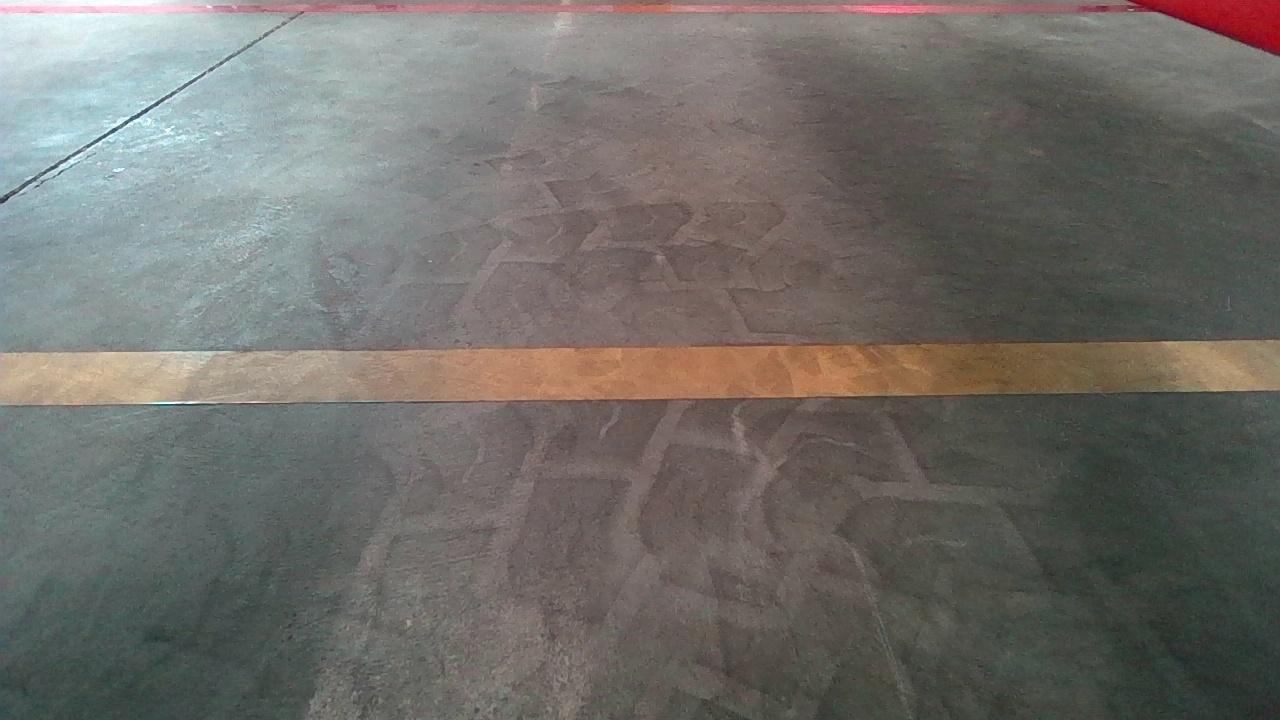yellow_line: (5, 335, 1280, 402)
